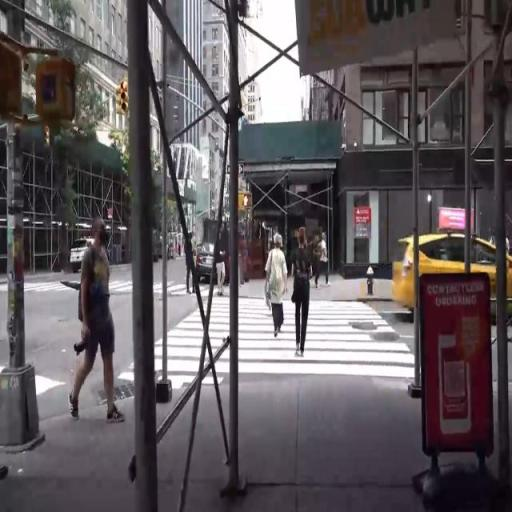person: (76, 217, 128, 427), (260, 217, 290, 335), (292, 228, 313, 354), (315, 231, 336, 297), (214, 236, 231, 303)
